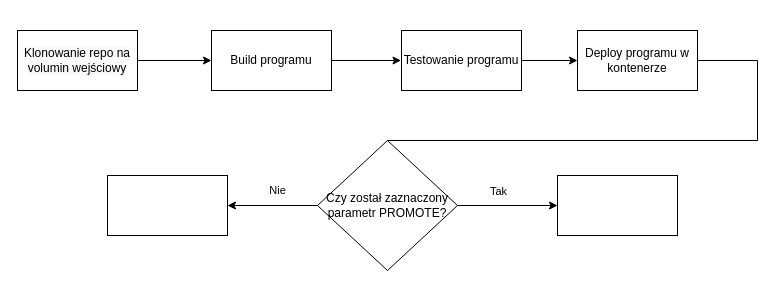
The diagram is 776 pixels wide and 288 high, and some of its shapes have lost their labels. Here are the shapes that lost their labels. From the top down, the centre of each, then its label:
point (167, 205): Koniec pipeline'u
point (617, 205): Publish plików wyjściowych jako artefakty
